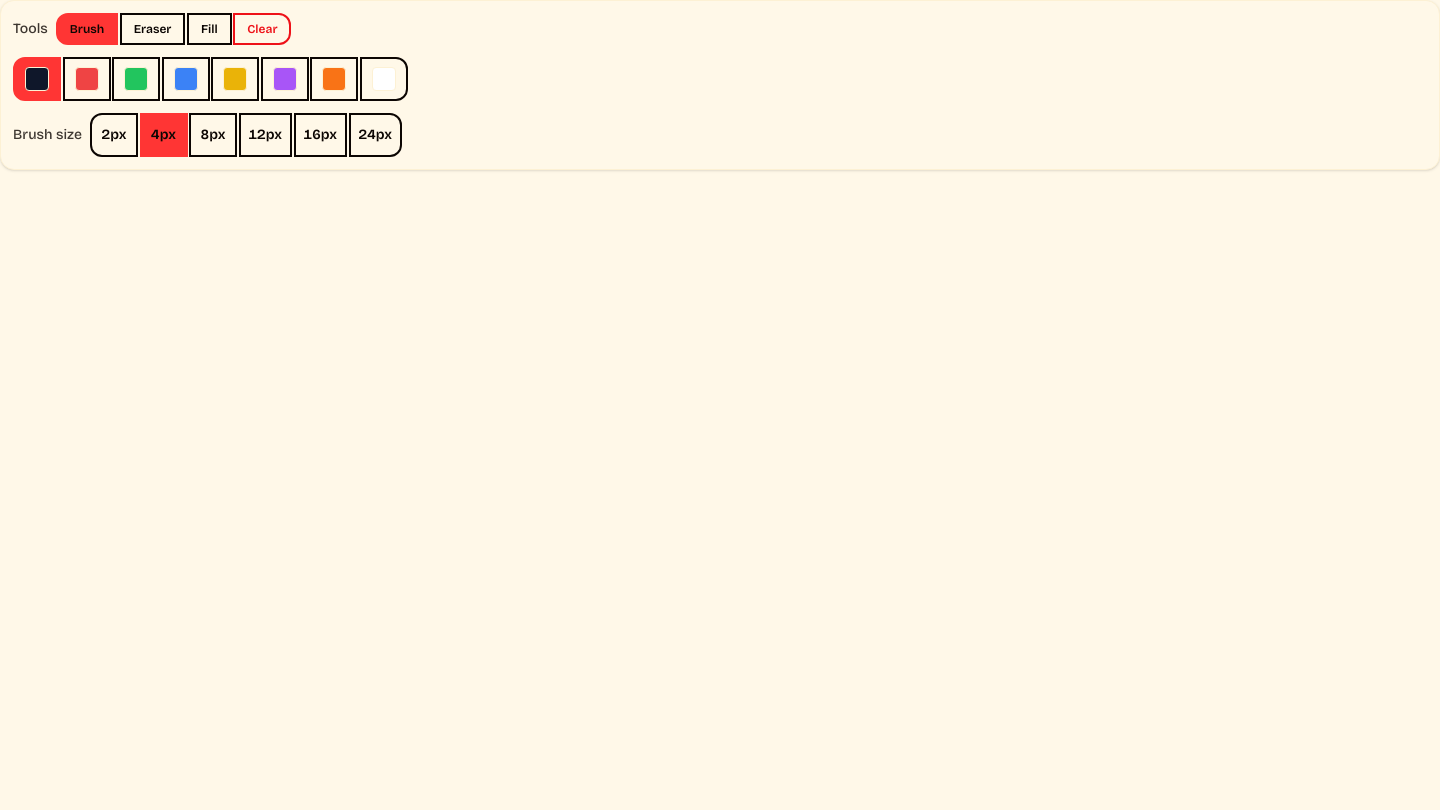
Test: DrawingToolbar › Escape closes clear modal without sending command (AC #2 focus trap)
Click the button with test id "drawing-tool-clear". click: (262, 29)
box: [233,13,292,45]
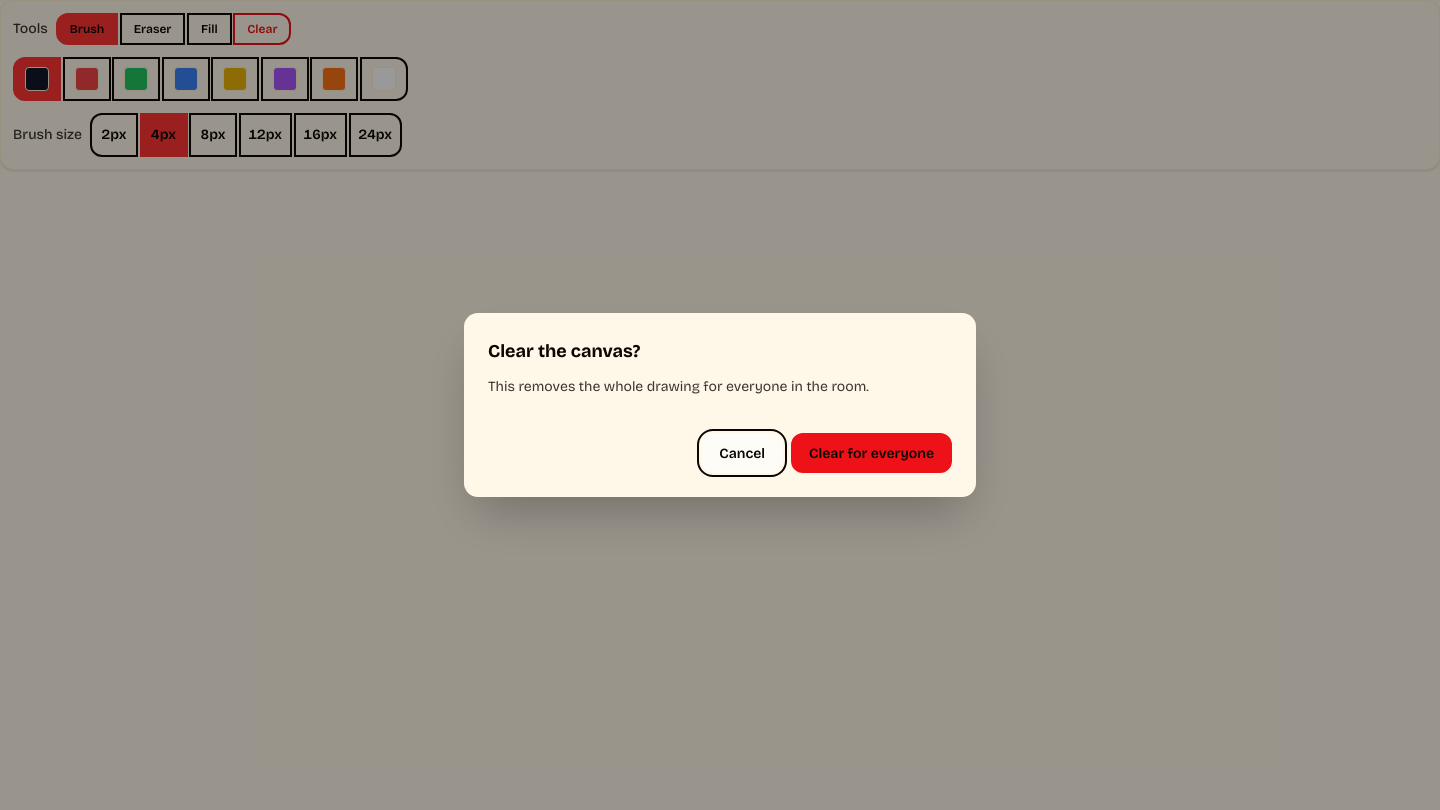
Check: the dialog is shown
Press Escape
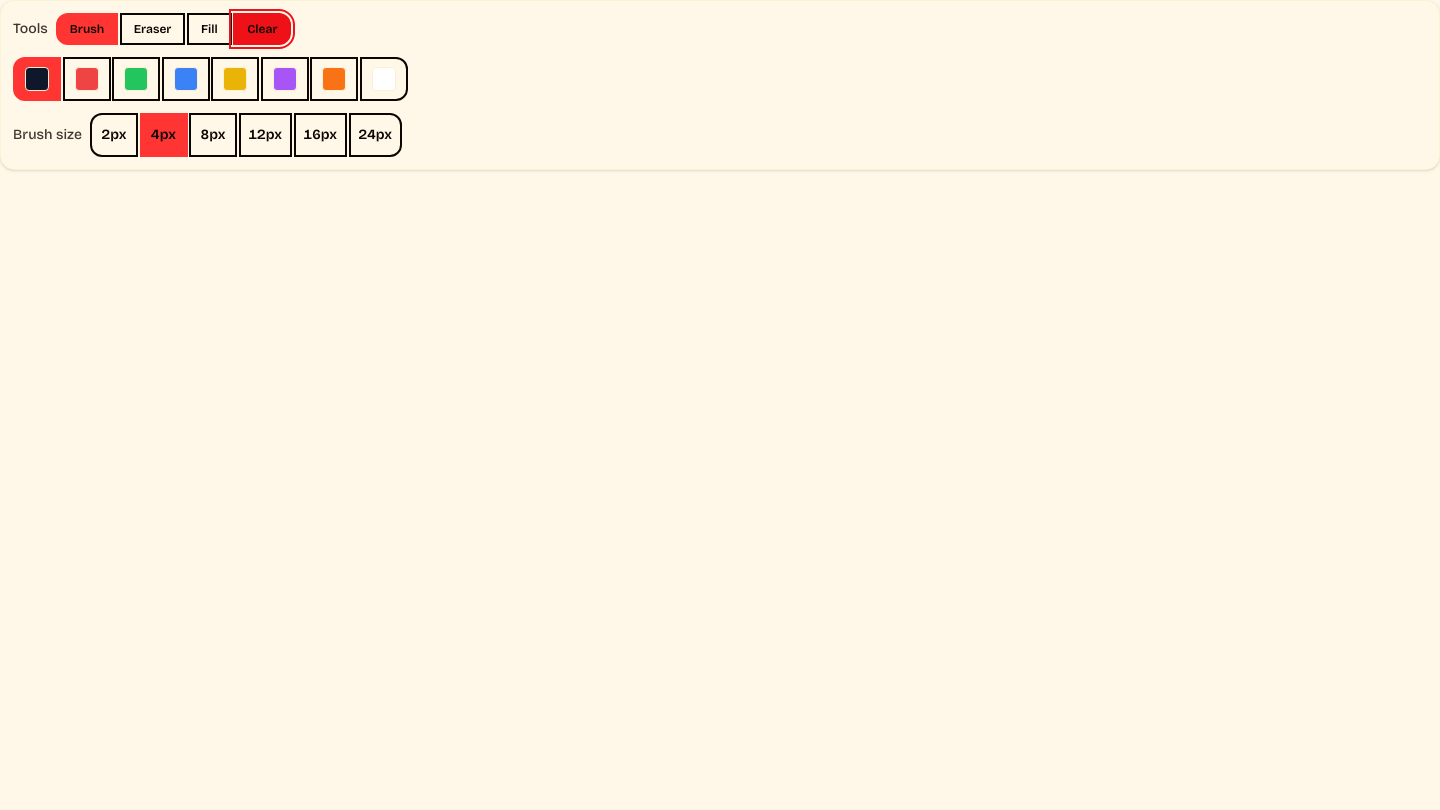
Check: the dialog is gone
